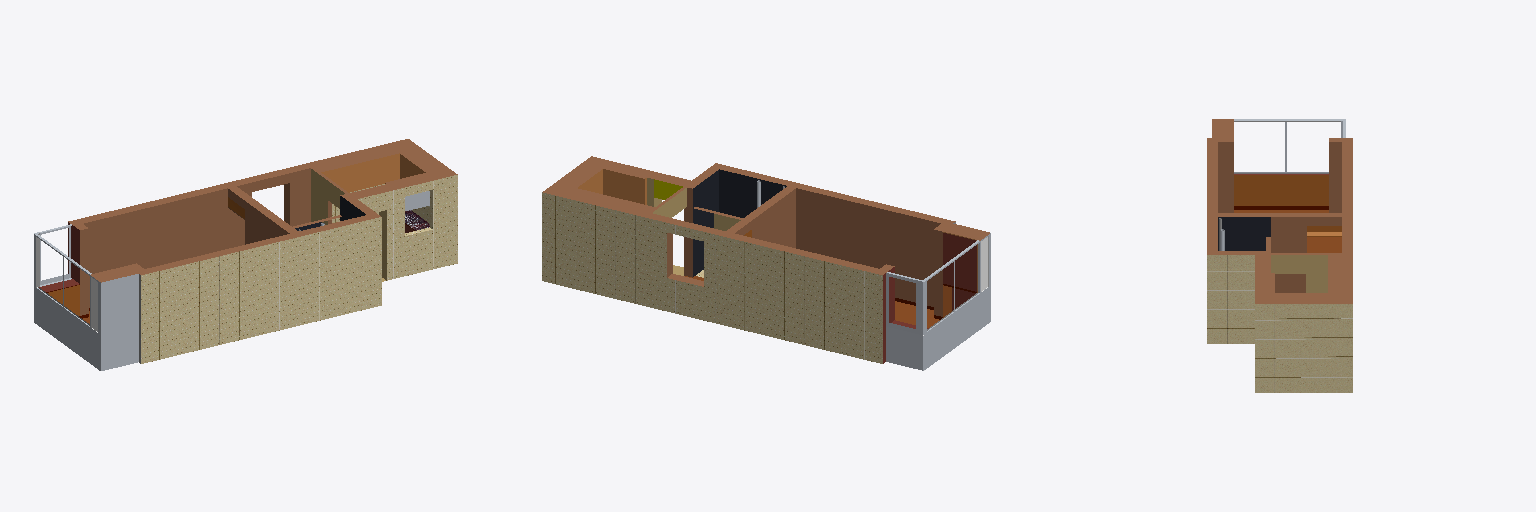
3 renders of one model, left to right at view 1: azimuth 30°, elevation 25°; view 2: azimuth 150°, elevation 25°; view 3: azimuth 270°, elevation 25°, orthographic.
Visible parts, largest first — view 1: Mesh2 Model; view 2: Mesh2 Model; view 3: Mesh2 Model.
Part boxes in pixels (bbox=[...]): Mesh2 Model: bbox=[34, 139, 457, 370]; Mesh2 Model: bbox=[542, 156, 990, 370]; Mesh2 Model: bbox=[1207, 119, 1352, 392].
Bounding box in the file's own units: 250 × 56.03 × 84.04.
15 materials, 2 textured.